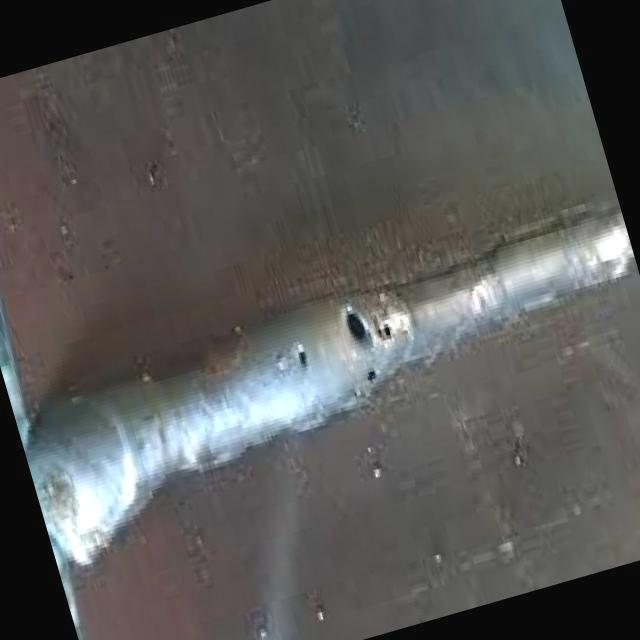defect: (342, 304, 395, 346), (362, 360, 383, 398), (293, 341, 314, 374)
